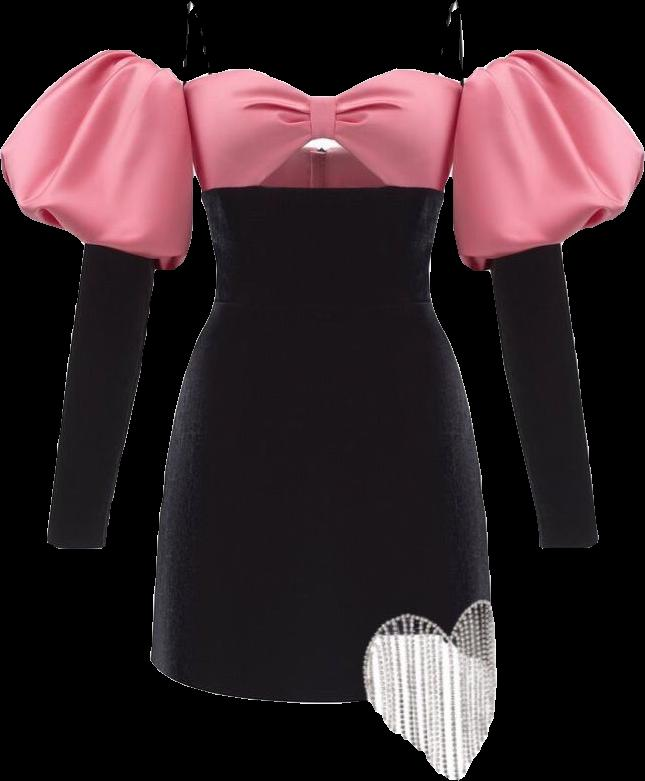Bodice: (182, 68, 462, 309)
Hemline: (148, 654, 498, 780)
Neckline: (184, 64, 465, 102), (257, 132, 396, 192), (201, 181, 445, 196)
Skirt: (150, 300, 497, 779)
Sleeve: (0, 49, 195, 549), (450, 49, 644, 548)
Sleeveline: (104, 46, 186, 92), (459, 47, 545, 90), (81, 241, 160, 274), (481, 241, 562, 273)
Waistline: (360, 594, 494, 704), (211, 296, 434, 314)
